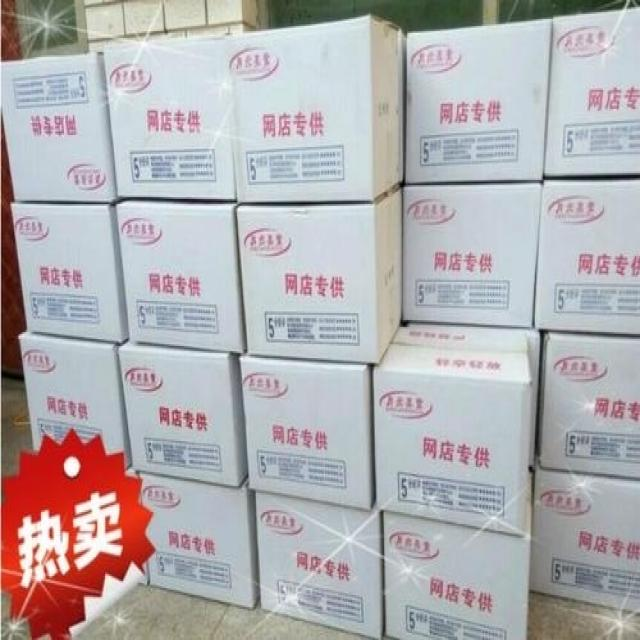box: (373, 322, 533, 534), (228, 15, 403, 203), (237, 184, 403, 364), (382, 468, 534, 638), (405, 20, 551, 184), (104, 34, 235, 201), (241, 353, 376, 509), (403, 184, 541, 328), (118, 338, 248, 487), (118, 200, 245, 351), (254, 492, 382, 636), (2, 53, 119, 204), (11, 201, 131, 343), (534, 176, 639, 336), (138, 472, 260, 609), (529, 468, 639, 616), (20, 327, 133, 469), (545, 7, 639, 175), (536, 330, 639, 477), (527, 330, 539, 469)
